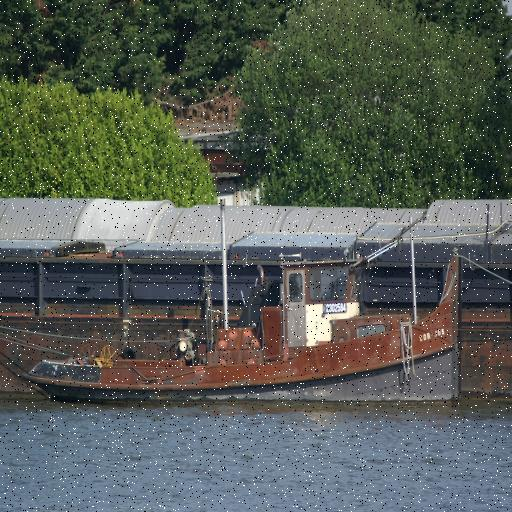tugboat: (19, 247, 473, 430)
